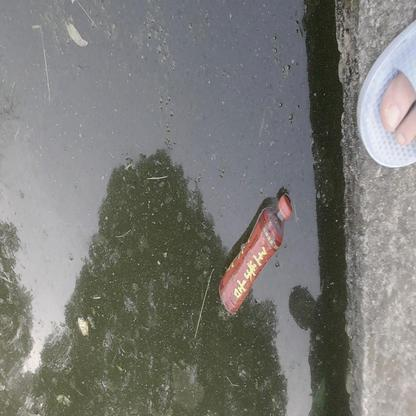plastic bottle: (218, 193, 293, 315)
